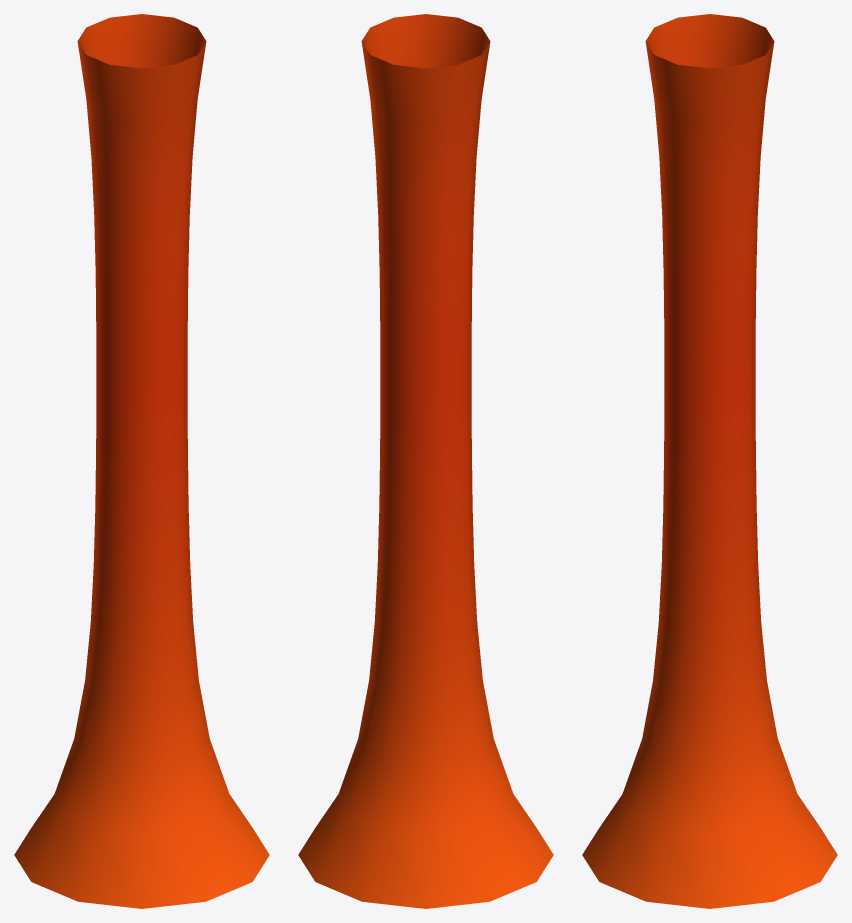
File: conduit.obj
3 views of the same model, side by side, from view 1: azimuth 30°, elevation 25°; view 2: azimuth 150°, elevation 25°; view 3: azimuth 270°, elevation 25° (orthographic).
Visible parts, largest first — view 1: conduit; view 2: conduit; view 3: conduit.
Part boxes in pixels (x1,y1,x2,y2): conduit: [14, 14, 269, 908]; conduit: [298, 14, 553, 908]; conduit: [582, 14, 837, 908].
Bounding box in the file's own units: 0.262 × 0.92 × 0.262.
